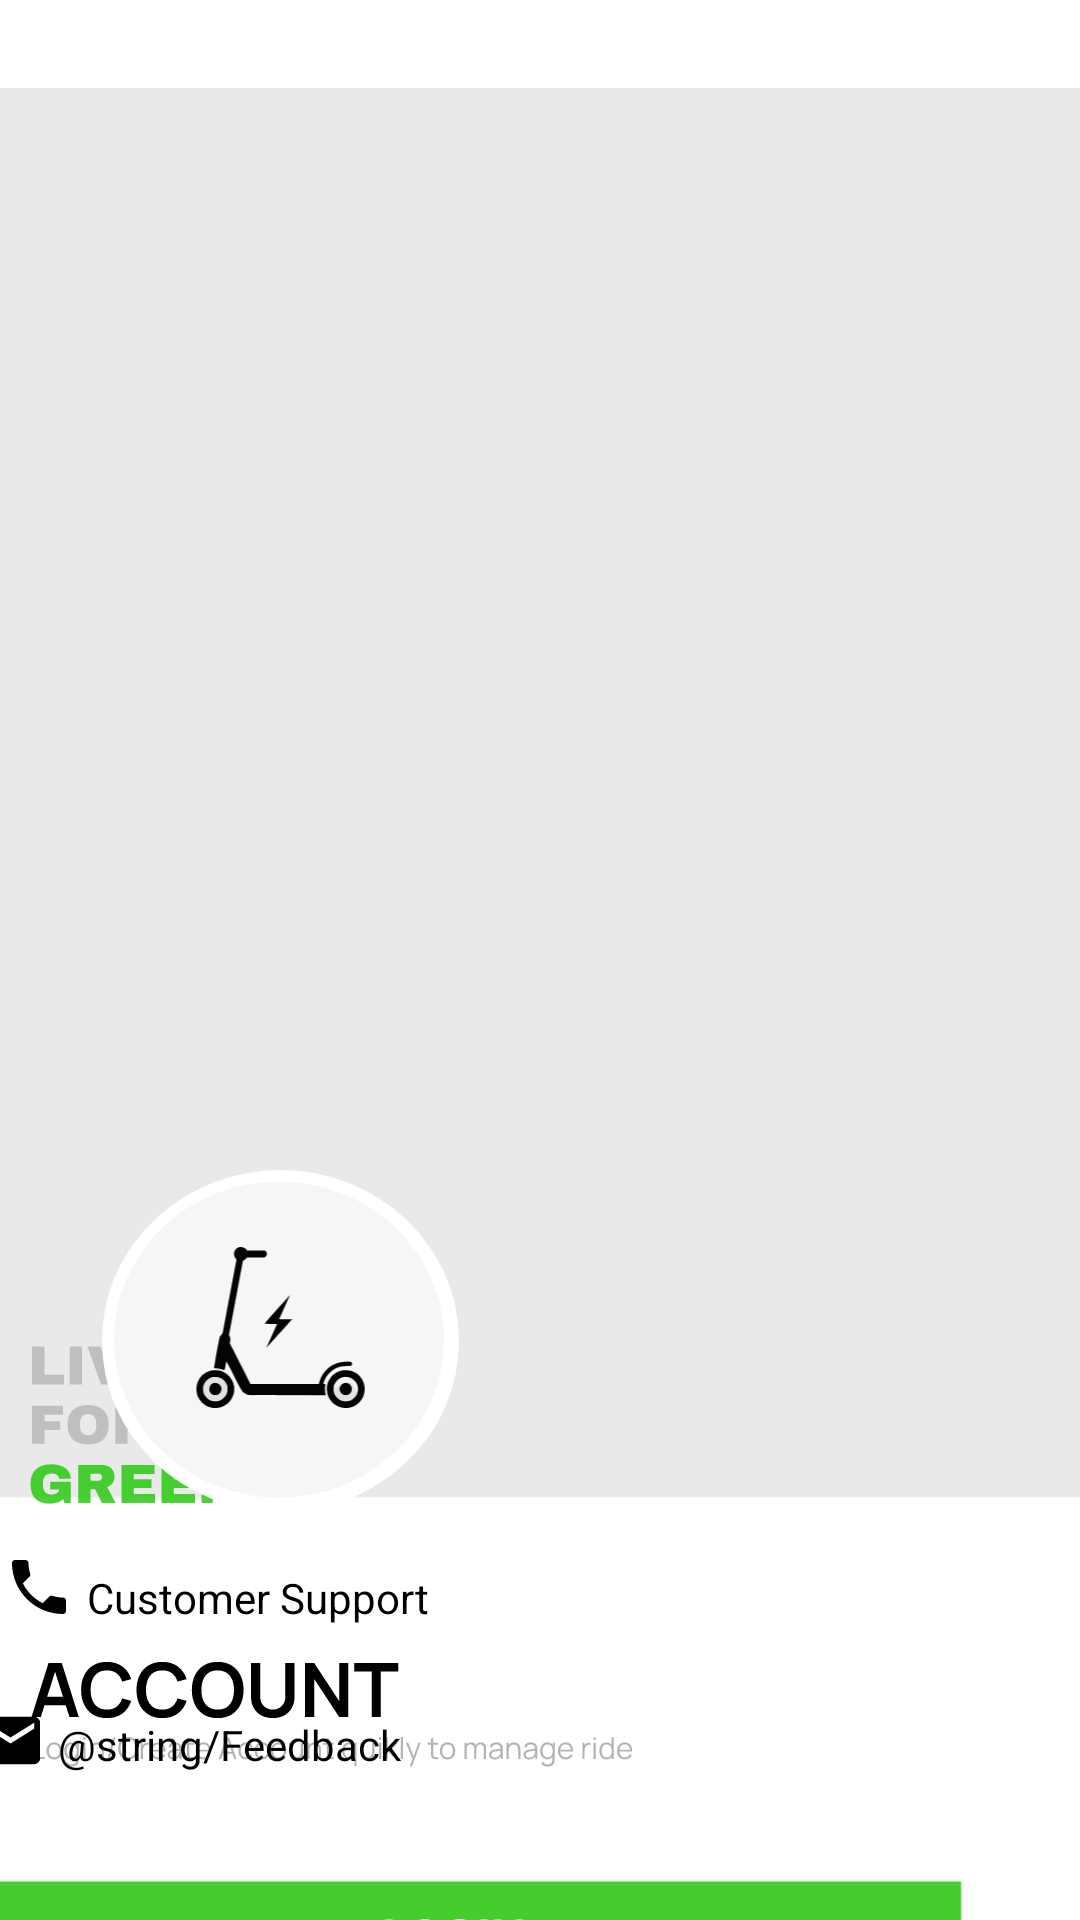

Screen size 1080w x 1920h. Icon name, then its box in pixels as [x1, y1, x2, y2]:
phone: [12, 1560, 66, 1614]
